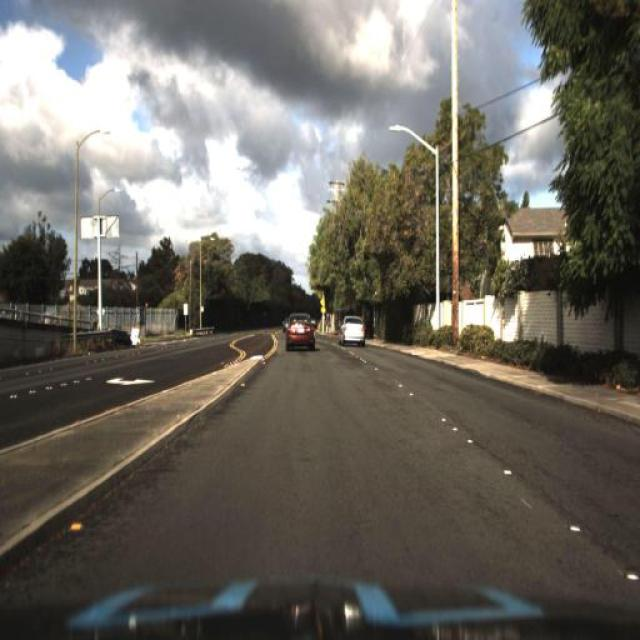car: (283, 308, 318, 352), (336, 314, 366, 350)
